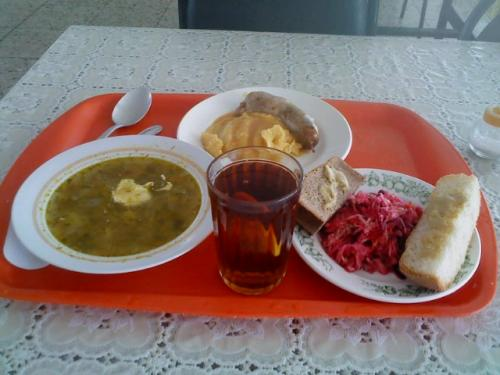bowl: (11, 136, 216, 275)
cutlery: (97, 86, 166, 133)
drink: (302, 167, 482, 310), (209, 147, 304, 299)
plate: (177, 86, 352, 148)
